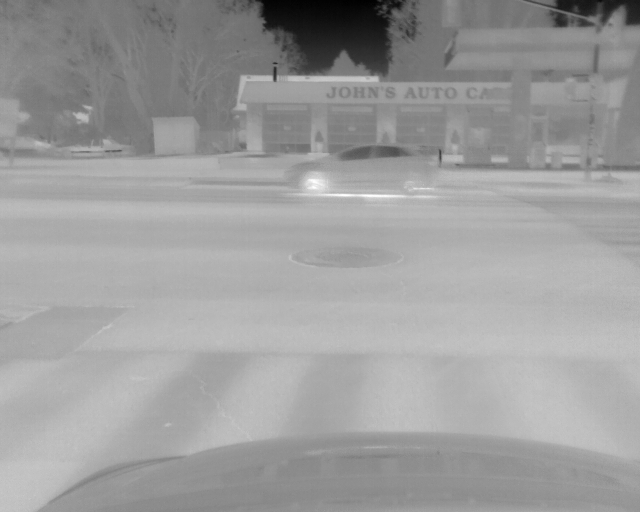car: (285, 142, 436, 198)
